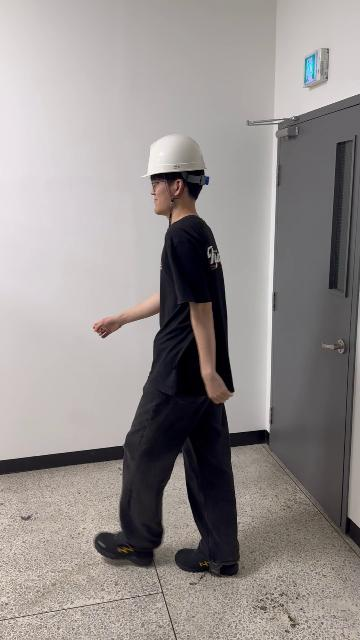helmet_worn: (141, 133, 212, 189)
shoe_worn: (175, 543, 242, 580), (93, 531, 157, 569)
vest_not_worn: (162, 221, 229, 419)
